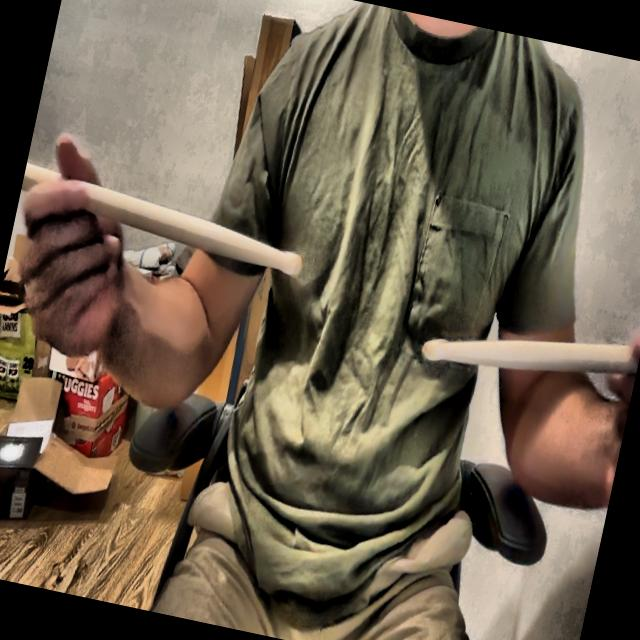Drumstick-Heads: (416, 324, 452, 372), (280, 248, 304, 280)
